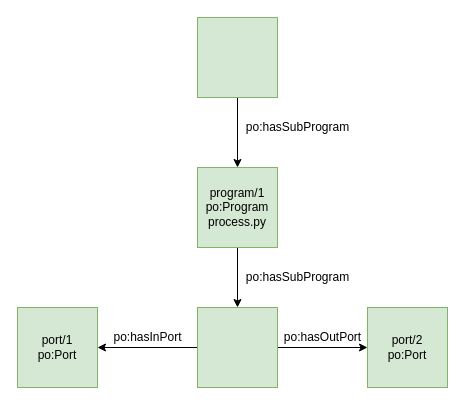
Image size: 465x405. Some labels were removed from this diagram. The centre of each missing label's shape, as x and y in pixels:
program/3 po:Program: [237,347]
workflow/1 po:Workflow: [237,57]
